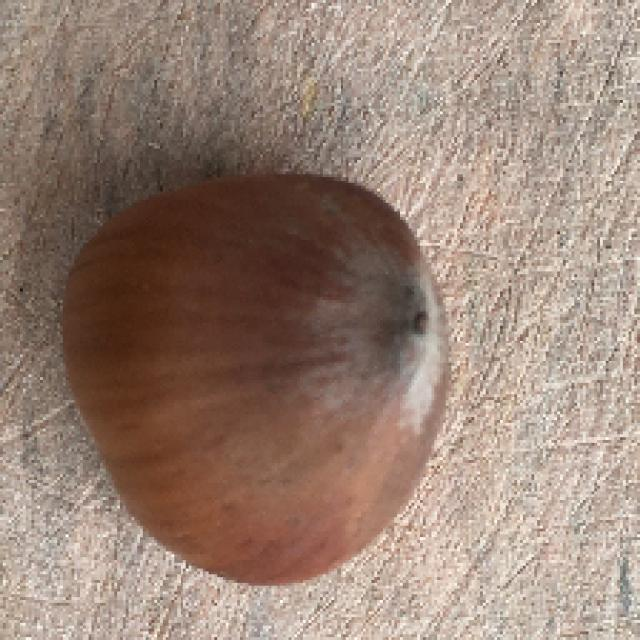qualityHazelnut: (50, 155, 490, 602)
